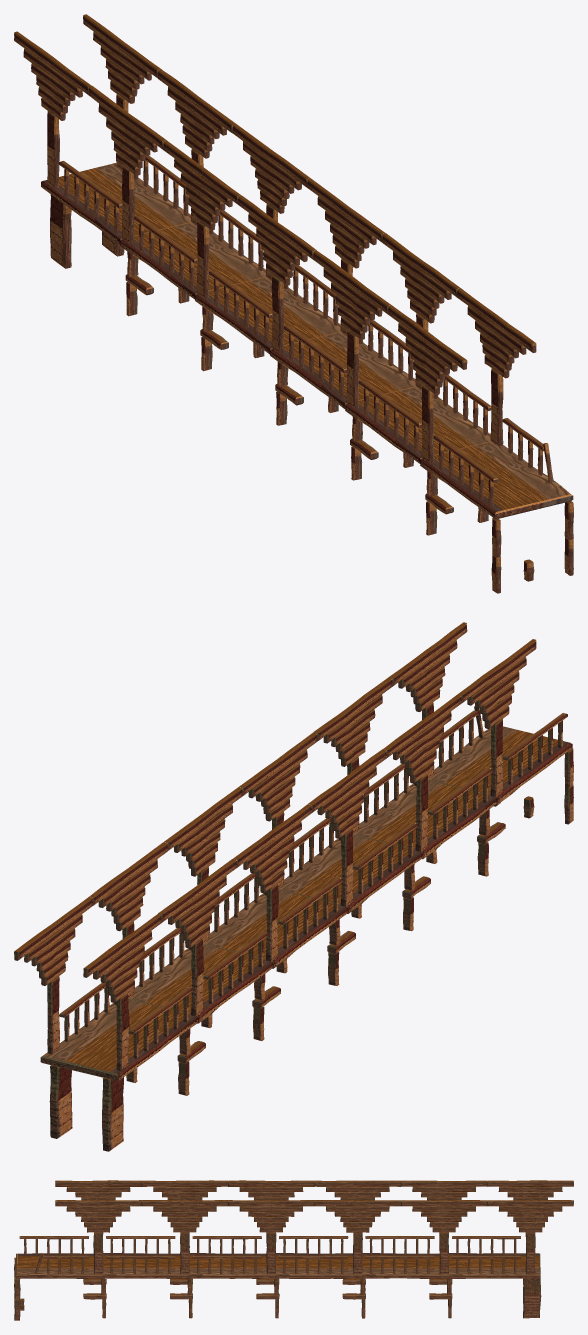
File: M15_Dynamic1Wood_2kg.fbx
The picture shows the model from 3 angles, top to bottom: view 1: azimuth 30°, elevation 25°; view 2: azimuth 150°, elevation 25°; view 3: azimuth 270°, elevation 25°; orthographic projection. The views are drawn at different scales.
Visible parts, largest first — view 1: D1Box6, D1Box11, D1Box10, D1Box7, D1Box9, D1Box8, D1Box197, D1Box81, D1Box38, D1Box44, D1Box27, D1Box50 (+14 smaller); view 2: D1Box11, D1Box9, D1Box10, D1Box8, D1Box7, D1Box6, D1Box196, D1Box197, D1Box63, D1Box56, D1Box44, D1Box81 (+15 smaller); view 3: D1Box11, D1Box6, D1Box10, D1Box7, D1Box8, D1Box9, D1Box196, D1Box32, D1Box38, D1Box56, D1Box27, D1Box44 (+54 smaller).
Part boxes in pixels (<box>): D1Box6: <box>420,441,573,519</box>; D1Box11: <box>41,162,191,244</box>; D1Box10: <box>120,222,266,299</box>; D1Box7: <box>345,387,491,463</box>; D1Box9: <box>195,277,341,354</box>; D1Box8: <box>270,332,416,408</box>; D1Box197: <box>50,194,71,268</box>; D1Box81: <box>388,305,467,369</box>; D1Box38: <box>457,288,536,352</box>; D1Box44: <box>233,124,310,188</box>; D1Box27: <box>382,233,460,297</box>; D1Box50: <box>158,69,235,133</box>; D1Box11: <box>40,999,198,1080</box>; D1Box9: <box>203,890,348,968</box>; D1Box10: <box>128,944,273,1023</box>; D1Box8: <box>278,835,423,913</box>; D1Box7: <box>353,780,497,859</box>; D1Box6: <box>428,726,572,804</box>; D1Box196: <box>49,1065,72,1138</box>; D1Box197: <box>102,1077,123,1151</box>; D1Box63: <box>83,913,161,977</box>; D1Box56: <box>14,896,92,960</box>; D1Box44: <box>164,786,242,850</box>; D1Box81: <box>458,639,536,702</box>; D1Box11: <box>448,1253,540,1278</box>; D1Box6: <box>16,1253,102,1278</box>; D1Box10: <box>362,1253,448,1278</box>; D1Box7: <box>102,1253,188,1278</box>; D1Box8: <box>189,1253,275,1278</box>; D1Box9: <box>275,1253,361,1278</box>; D1Box196: <box>523,1278,541,1318</box>; D1Box32: <box>228,1200,314,1206</box>; D1Box38: <box>55,1200,141,1206</box>; D1Box56: <box>487,1200,573,1206</box>; D1Box27: <box>141,1200,227,1206</box>; D1Box44: <box>314,1200,400,1206</box>.
Size of what is drawn, in the model's own units: 9.16 by 22.89 by 97.19.
